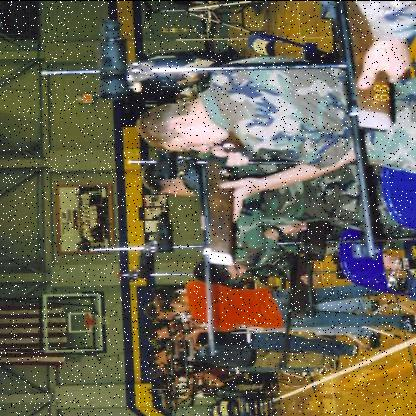rifle: (197, 124, 254, 364)
